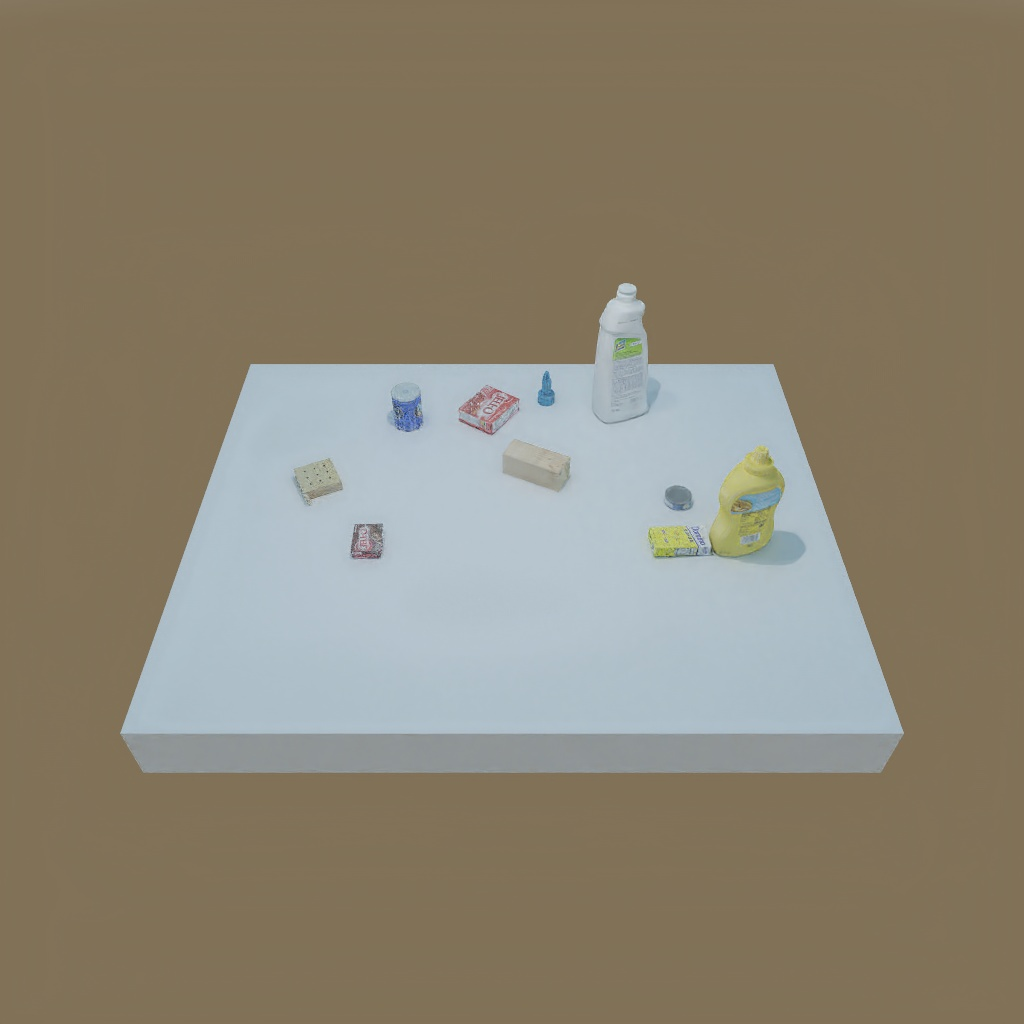gelatin_box: (456, 386, 524, 433)
master_chef_can: (387, 378, 426, 432)
mustard_bottle: (713, 446, 776, 558)
nine_hole_peg_test: (295, 457, 341, 506)
pudding_box: (348, 520, 387, 562)
wood_block: (503, 440, 569, 487)
